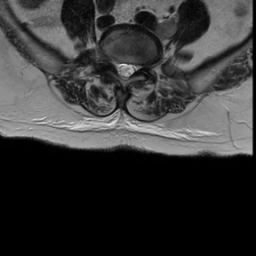CCS_normal: (122, 57, 128, 83)
LFS_severe_stenosis: (137, 59, 145, 74)
LLS_normal: (127, 58, 136, 78)
RFS_normal: (107, 50, 115, 68)
RLS_normal: (115, 55, 121, 78)
